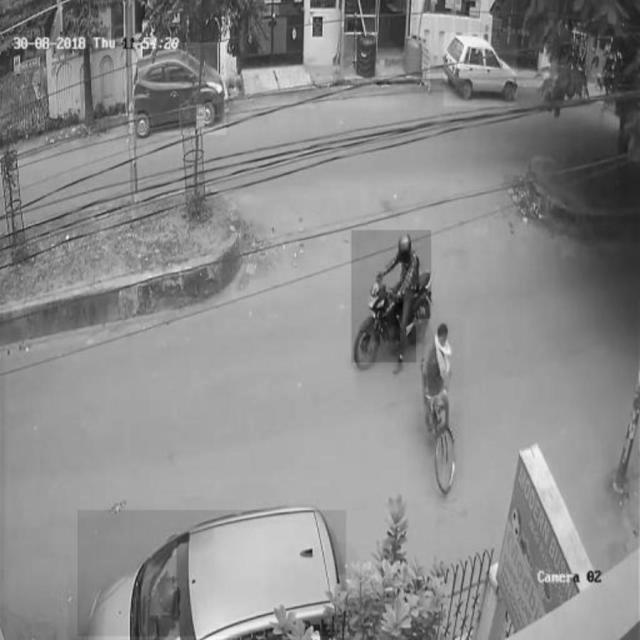vehicle: (78, 510, 346, 636), (351, 230, 431, 362), (129, 43, 227, 135), (417, 320, 464, 497), (444, 33, 517, 106)
